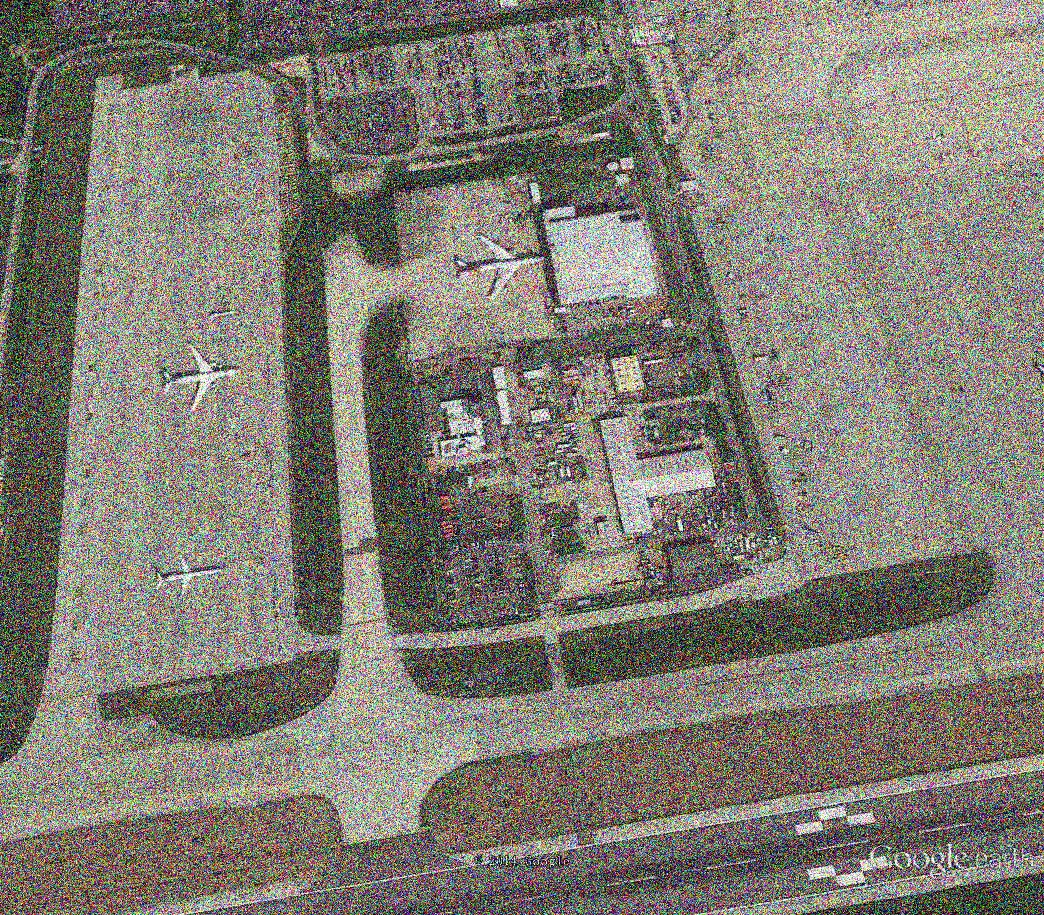aircraft: (451, 231, 552, 304), (160, 340, 244, 418), (154, 552, 226, 604), (925, 127, 951, 151)
